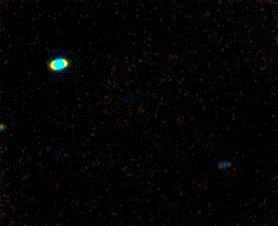star: (53, 7, 83, 37)
